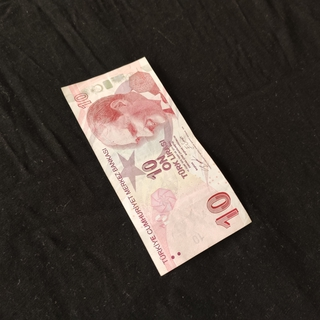10TLFront: (59, 54, 253, 277)
